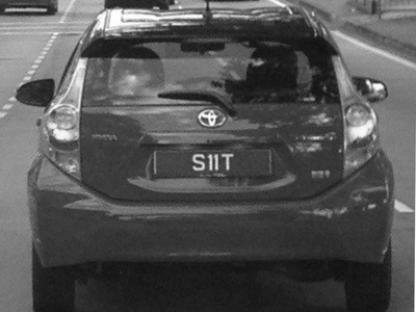license plate: (150, 145, 281, 181)
